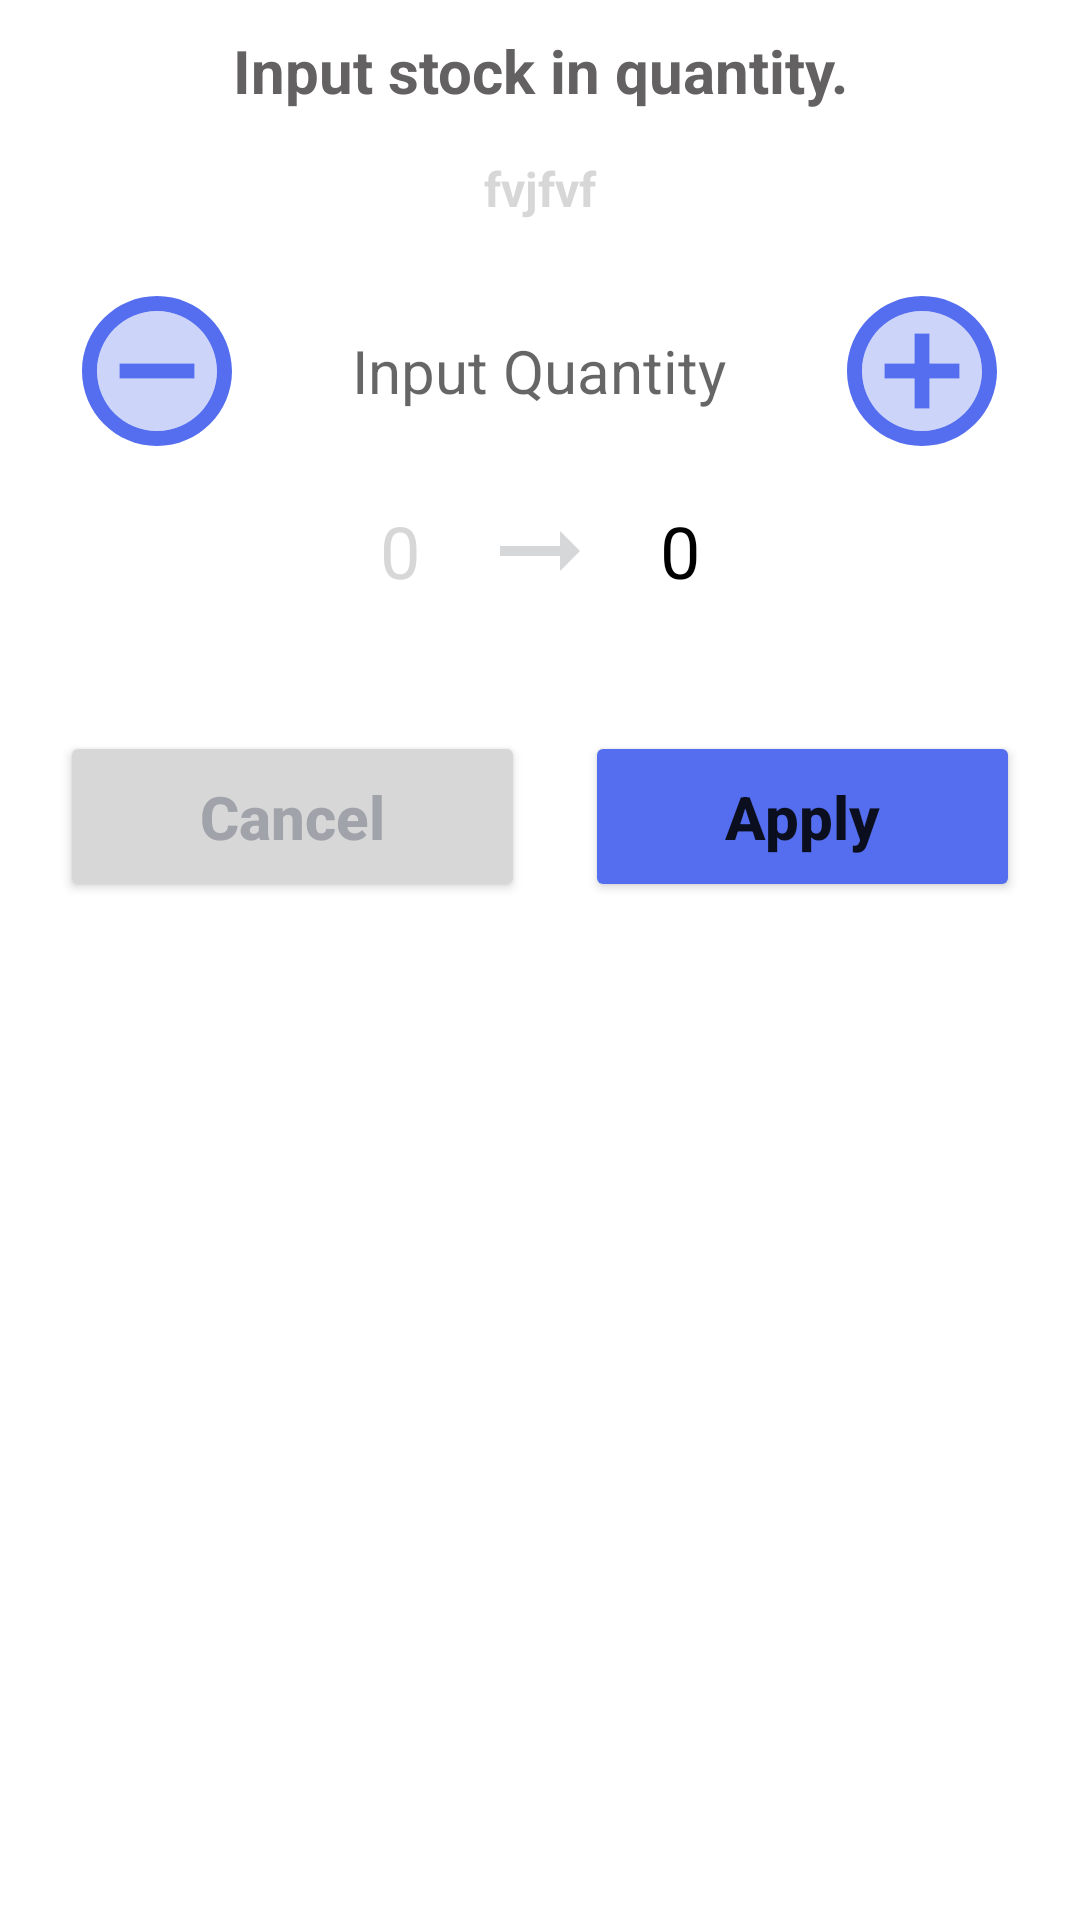

Icons on this 1080*1920 Android screen, each with the point to tap as point (x, y):
add circle: point (922, 371)
arrow right: point (539, 551)
remove circle: point (157, 371)
